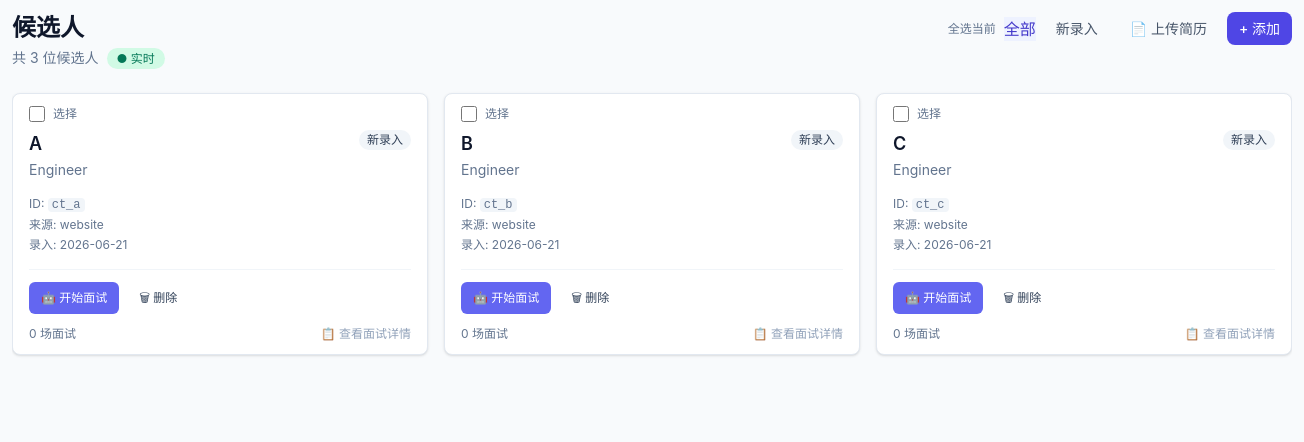
Test: Candidates — multi-select + batch toolbar › toggles a single candidate checkbox and reveals the batch toolbar
Select B
Click the checkbox with test id "candidate-checkbox-ct_b" at (469, 114), box [461,106,477,122]
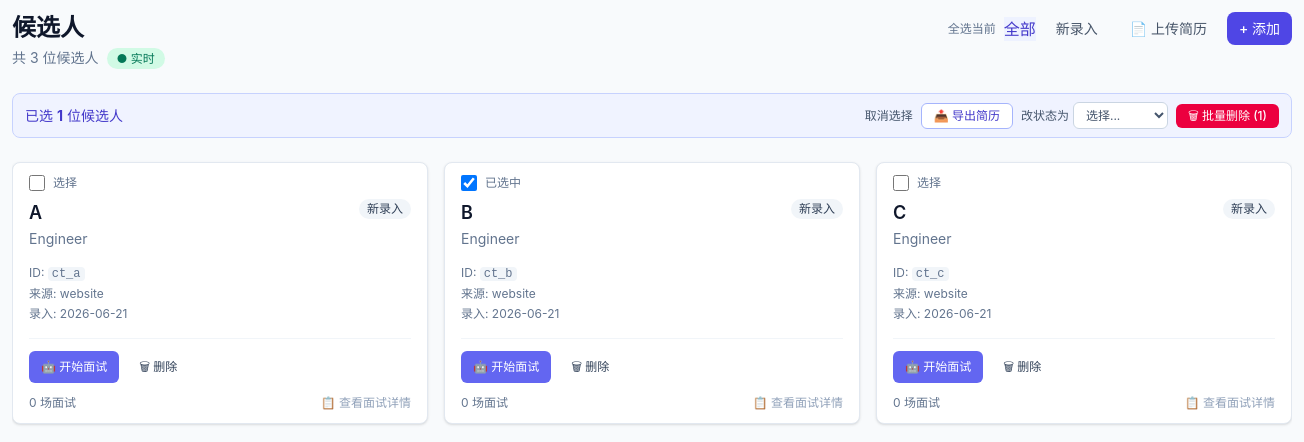
Now the element with test id "batch-selected-count" shows "1", box [57,107,63,124]
Now the button with test id "batch-delete" shows "1", box [1176,104,1279,128]
Select A as well
Click the checkbox with test id "candidate-checkbox-ct_a" at (37, 183), box [29,175,45,191]
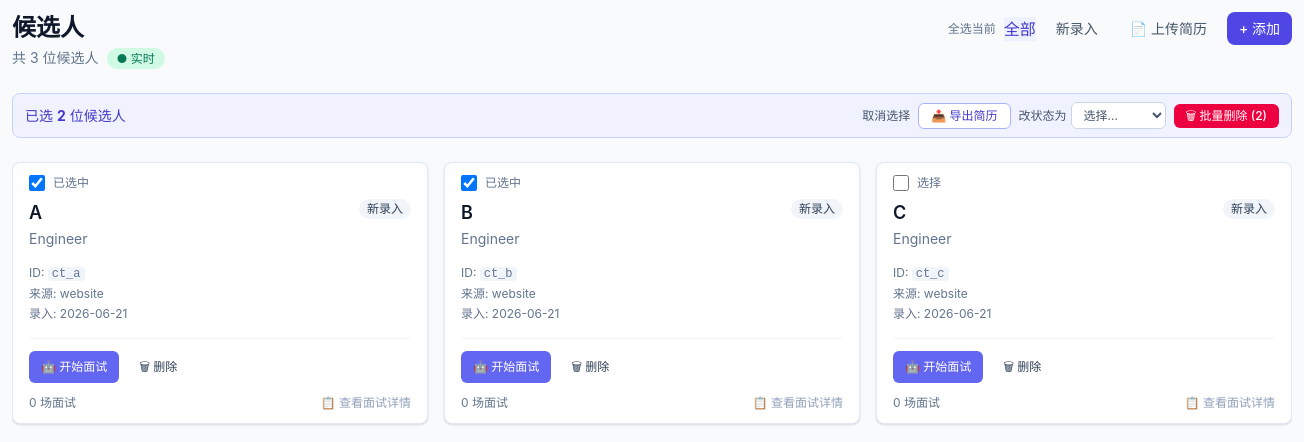
Now the element with test id "batch-selected-count" shows "2", box [57,107,66,124]
Deselect A
Click the checkbox with test id "candidate-checkbox-ct_a" at (37, 183), box [29,175,45,191]
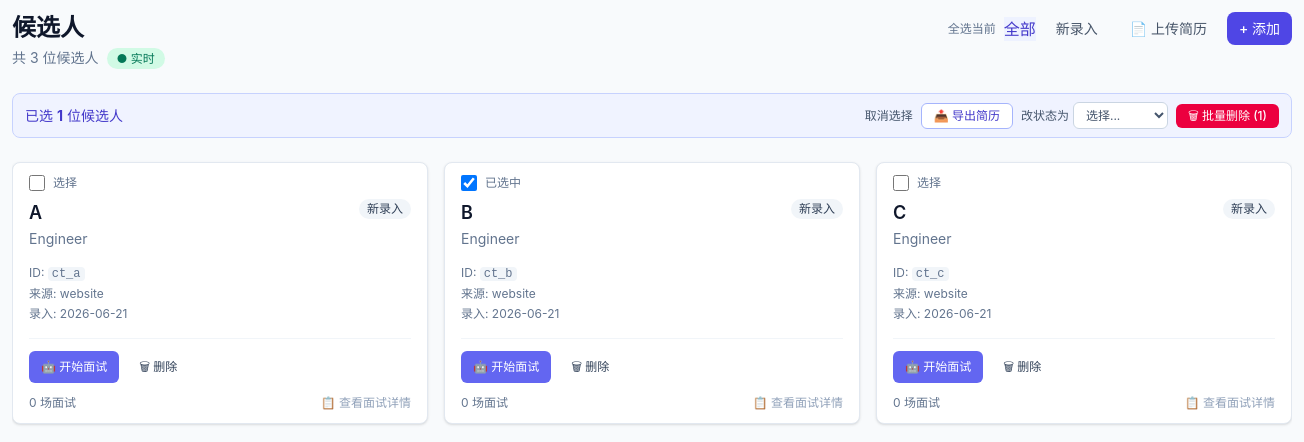
Now the element with test id "batch-selected-count" shows "1", box [57,107,63,124]
